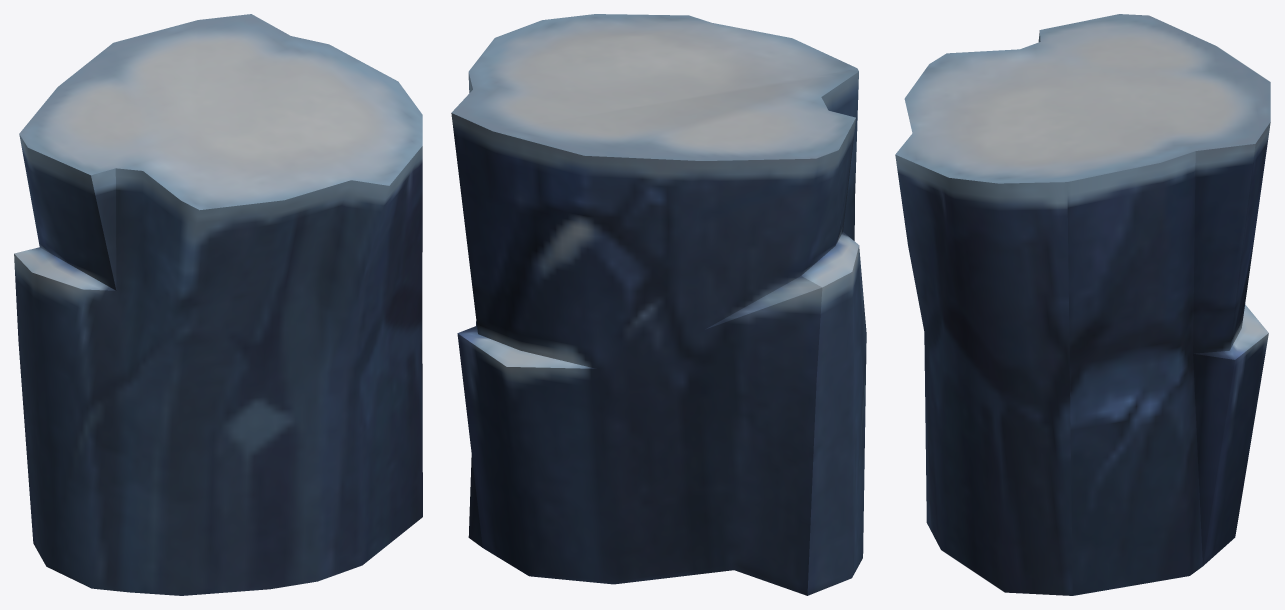
File: sldmd_shitou_02_04.FBX
3 views of the same model, side by side, from view 1: azimuth 30°, elevation 25°; view 2: azimuth 150°, elevation 25°; view 3: azimuth 270°, elevation 25° (orthographic). The views are drawn at different scales.
Parts seen in each view (by area): view 1: sldmd_shitou_02_04; view 2: sldmd_shitou_02_04; view 3: sldmd_shitou_02_04.
Part boxes in pixels (x1=…): sldmd_shitou_02_04: x1=14, y1=14, x2=422, y2=595; sldmd_shitou_02_04: x1=451, y1=14, x2=866, y2=595; sldmd_shitou_02_04: x1=895, y1=14, x2=1270, y2=595.
Size of the model in its own units: 213 by 247 by 195.
